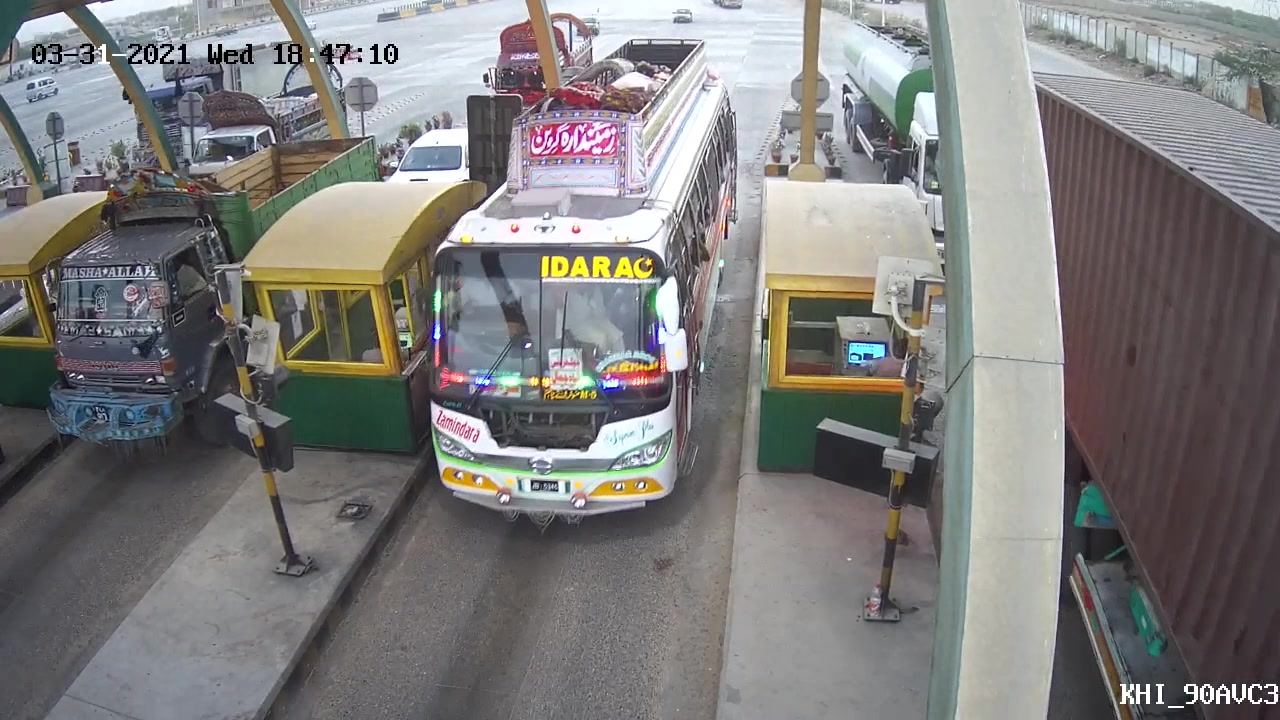F4: (422, 33, 741, 540)
